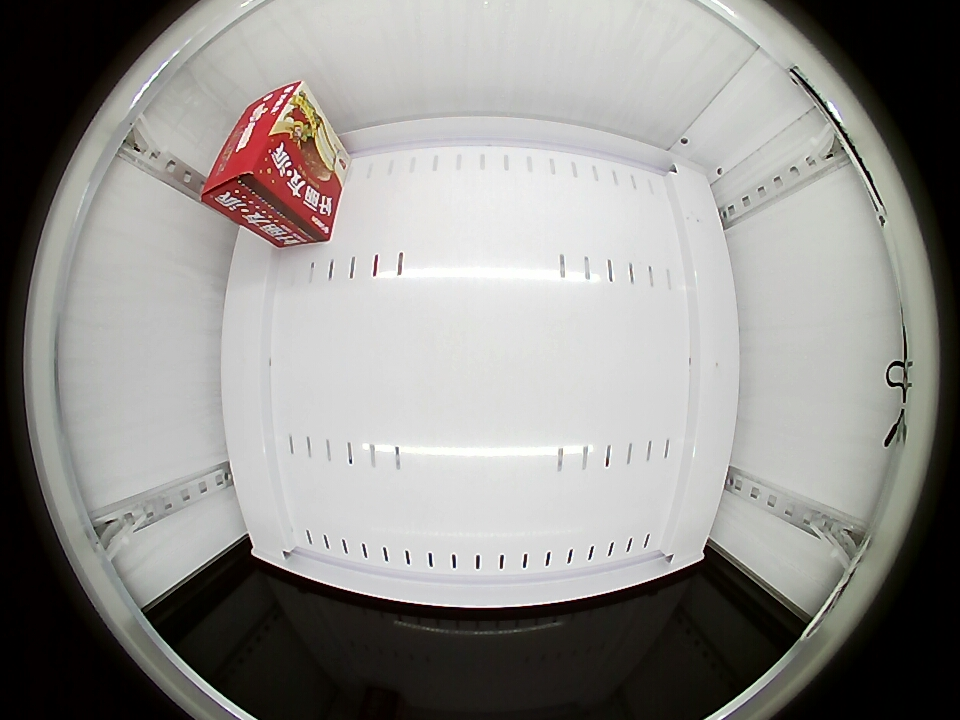haoliyou: (203, 81, 322, 221)
